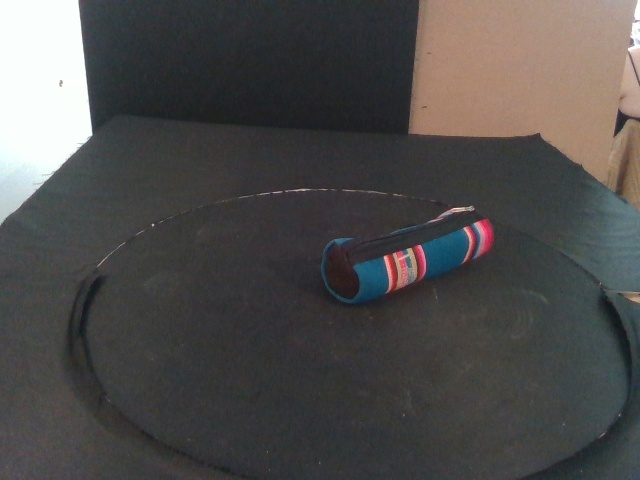pencil_case: (318, 206, 496, 305)
